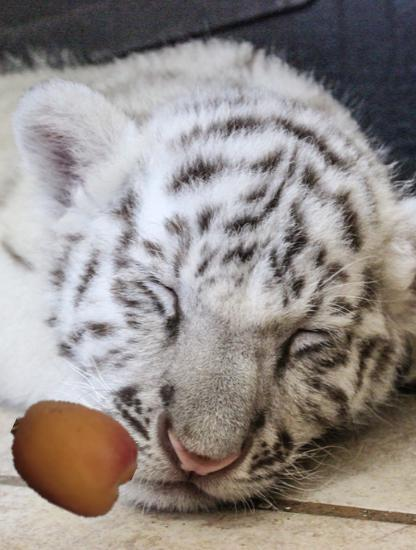Apricot: (6, 391, 136, 521)
